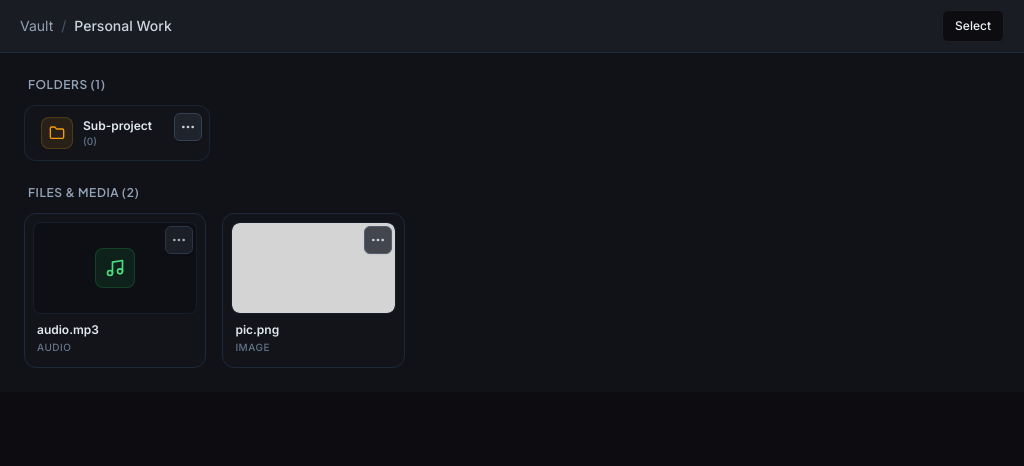
Test: Bulk Selection UI in FolderContentsView › should select all items in the current folder
Click the button "Select": (973, 26) [942,10,1004,42]
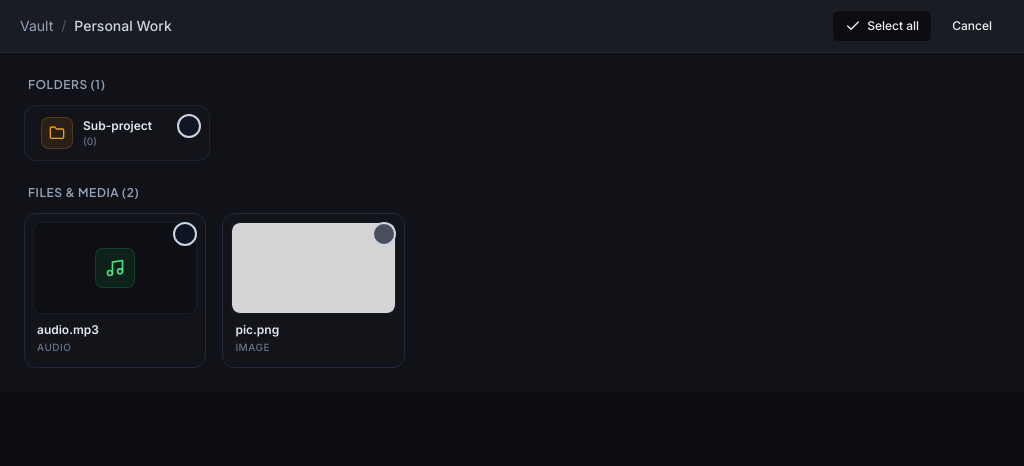
Click the button "Select all": (882, 26) [832,10,932,42]
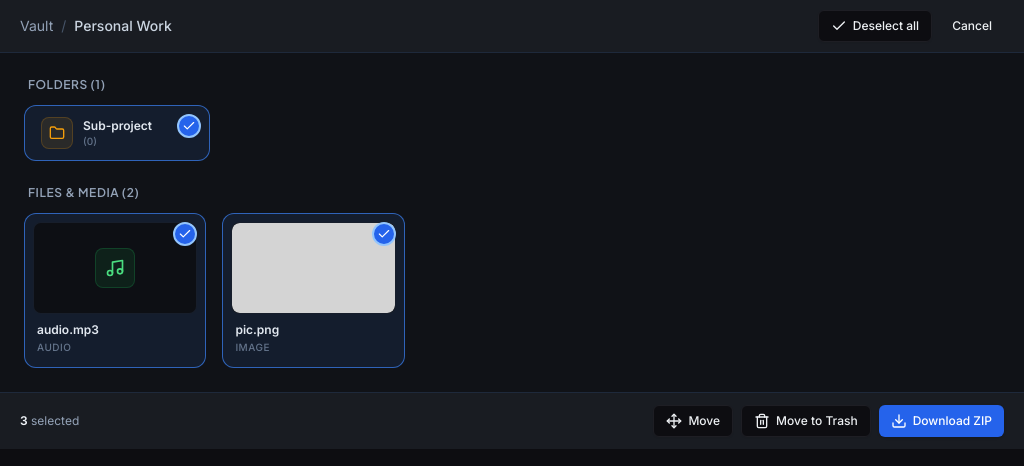
Expected: the text "3 selected" is shown, [20,414,79,430]
